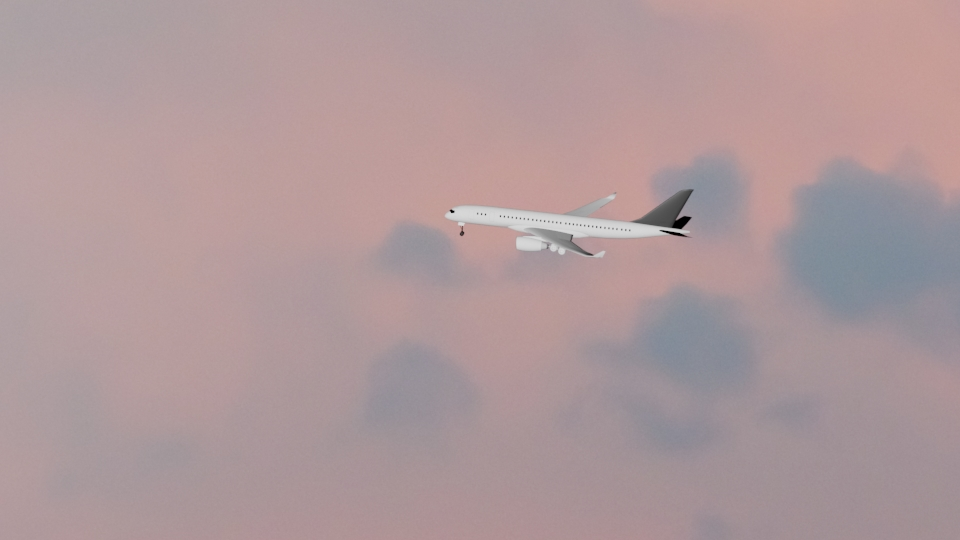plane: (441, 182, 698, 257)
